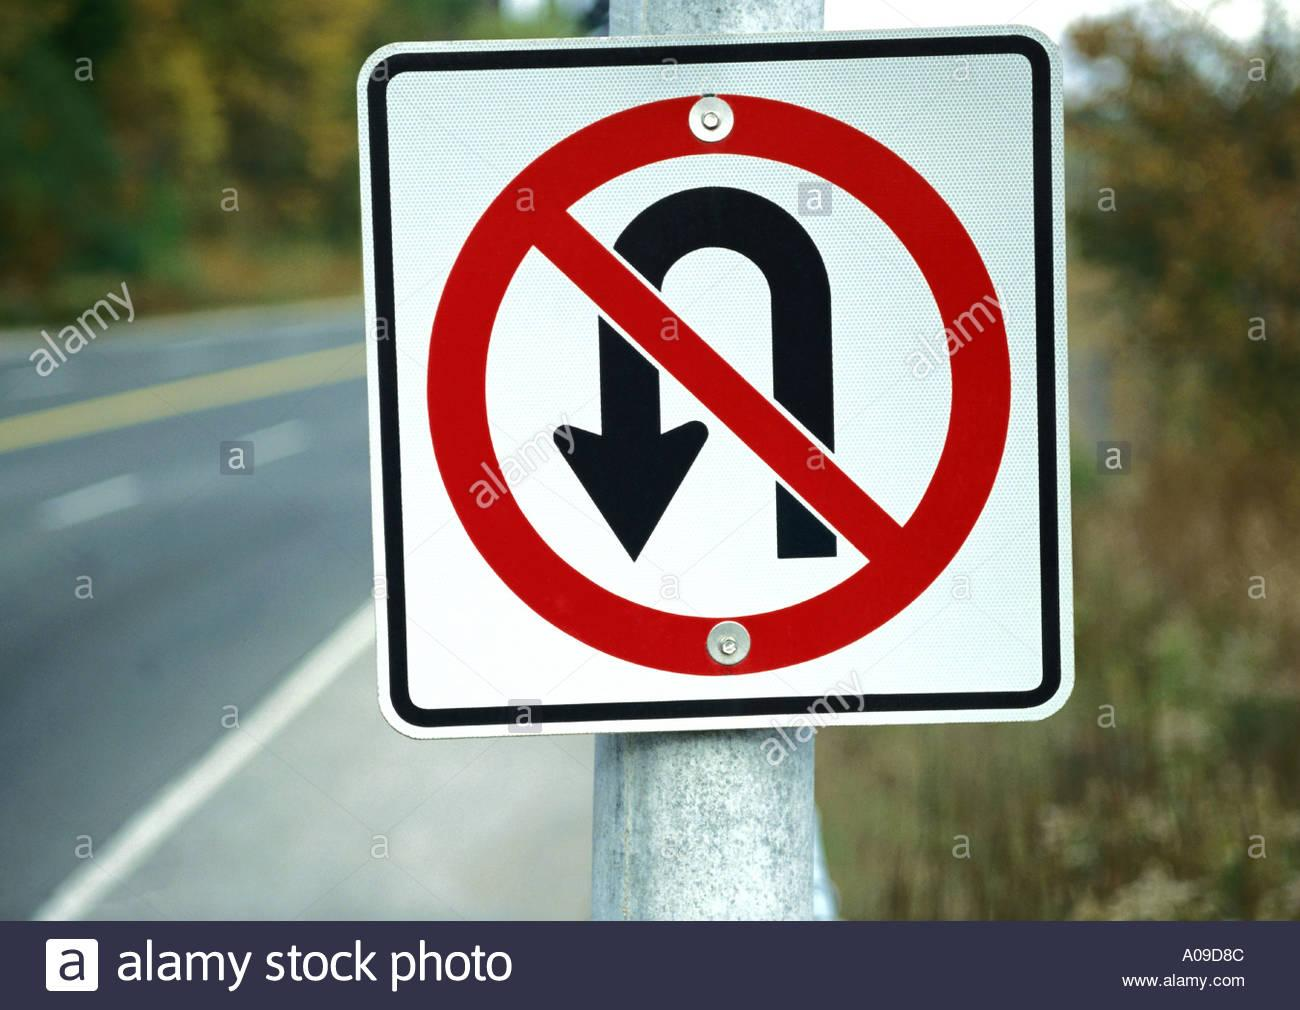no_u_turn: (429, 92, 1011, 671)
